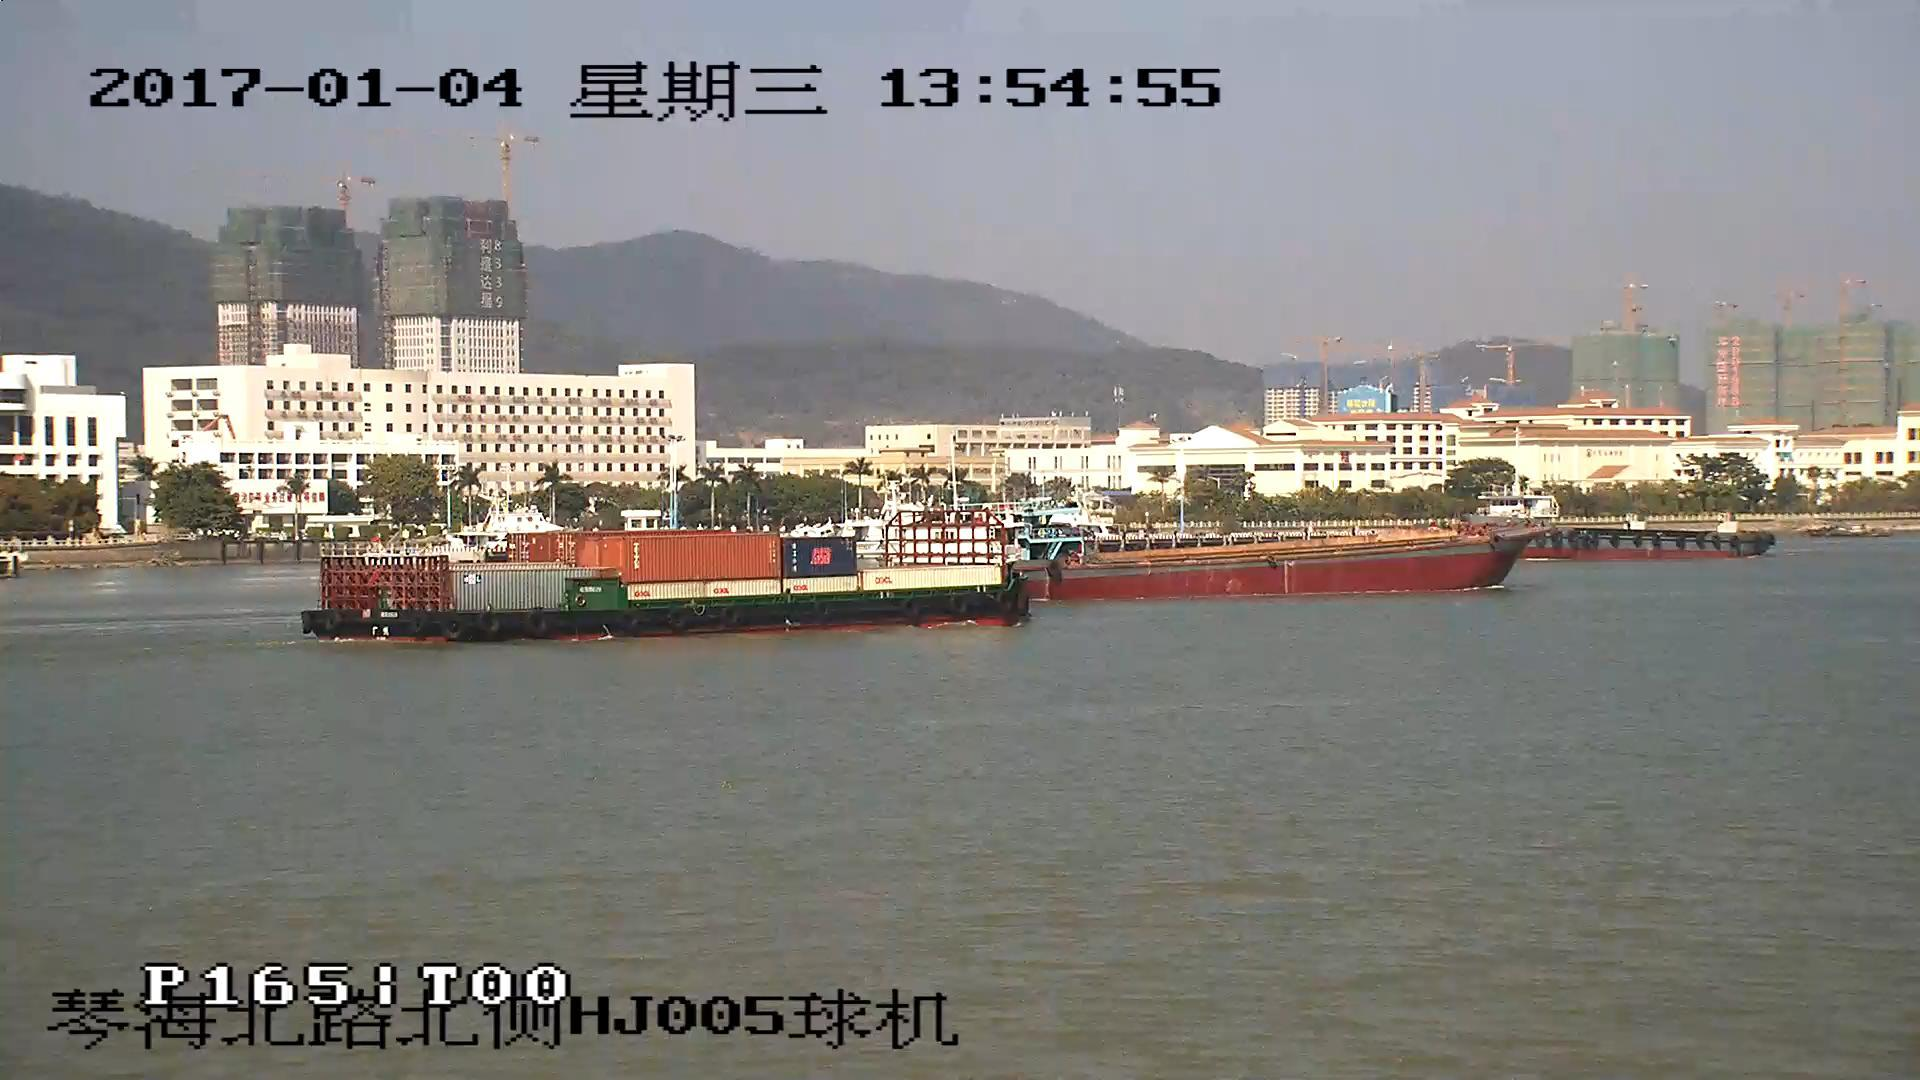Ship: (303, 516, 1029, 644), (1034, 529, 1548, 601), (1527, 513, 1768, 555)
